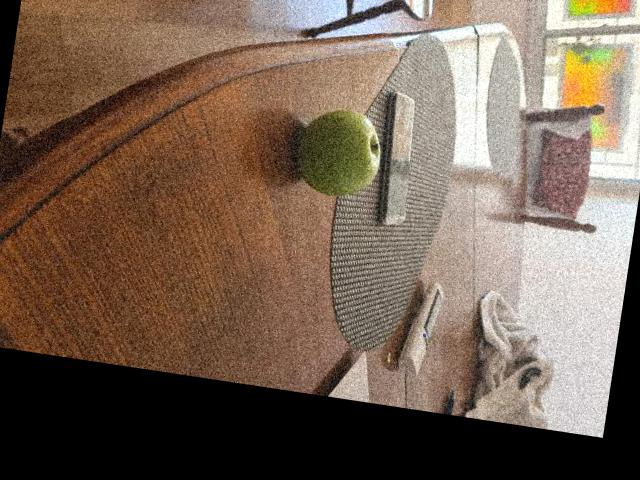apple: (290, 106, 384, 204)
